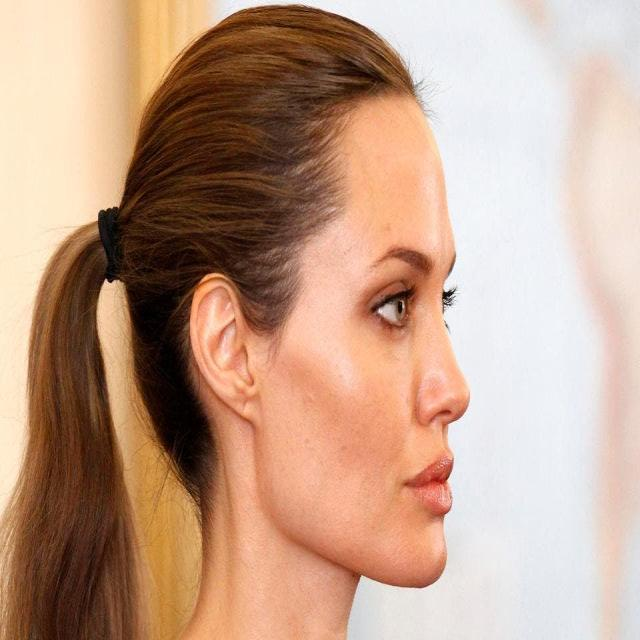earlobe: (233, 379, 261, 424)
eye: (374, 290, 409, 327)
nose: (420, 406, 466, 452)
wholeear: (190, 272, 261, 423)
